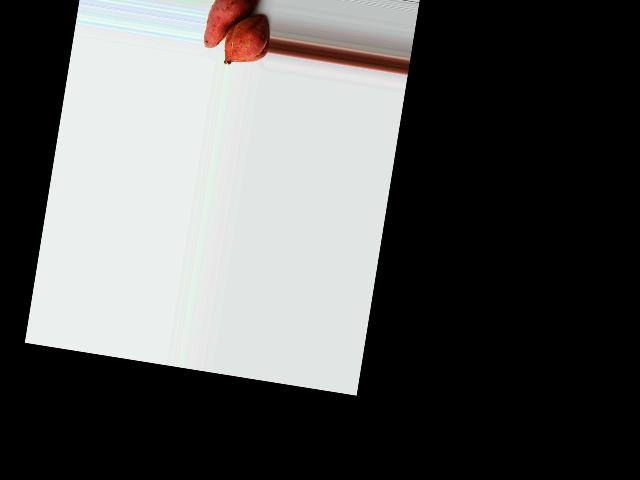sweet_potato: (225, 13, 267, 70)
